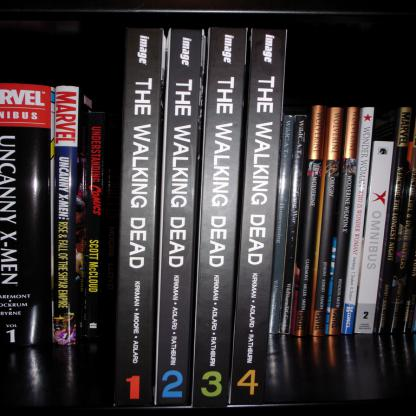book: (228, 28, 288, 408), (195, 25, 252, 410), (262, 104, 344, 341), (160, 25, 204, 410), (346, 105, 416, 338), (51, 82, 104, 348), (0, 85, 53, 345), (122, 26, 158, 408), (80, 109, 115, 349), (341, 104, 372, 336)
